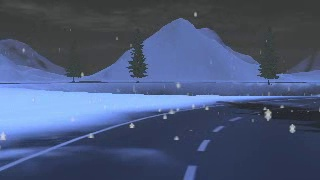Lane: (0, 97, 319, 179)
